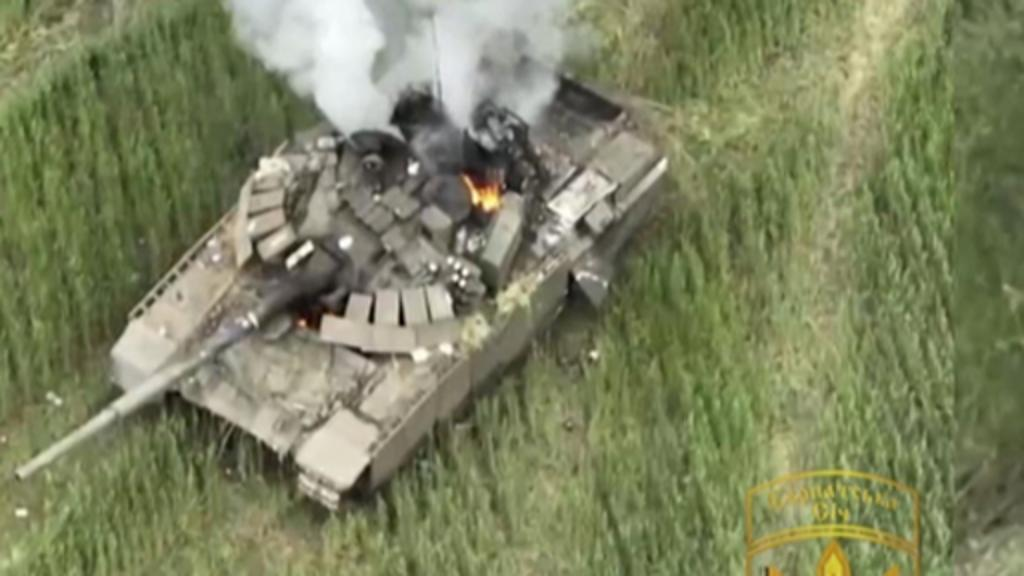TANK: (12, 28, 672, 526)
